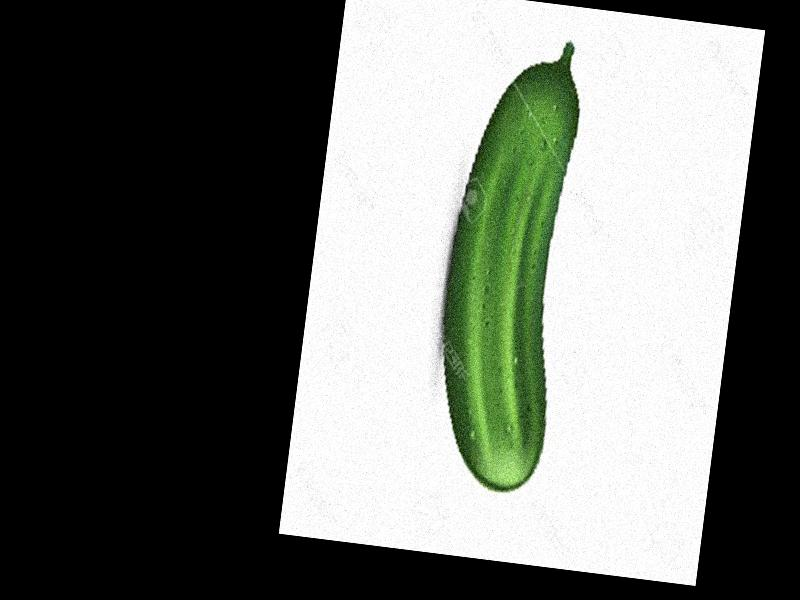Cucumber: (420, 31, 593, 496)
